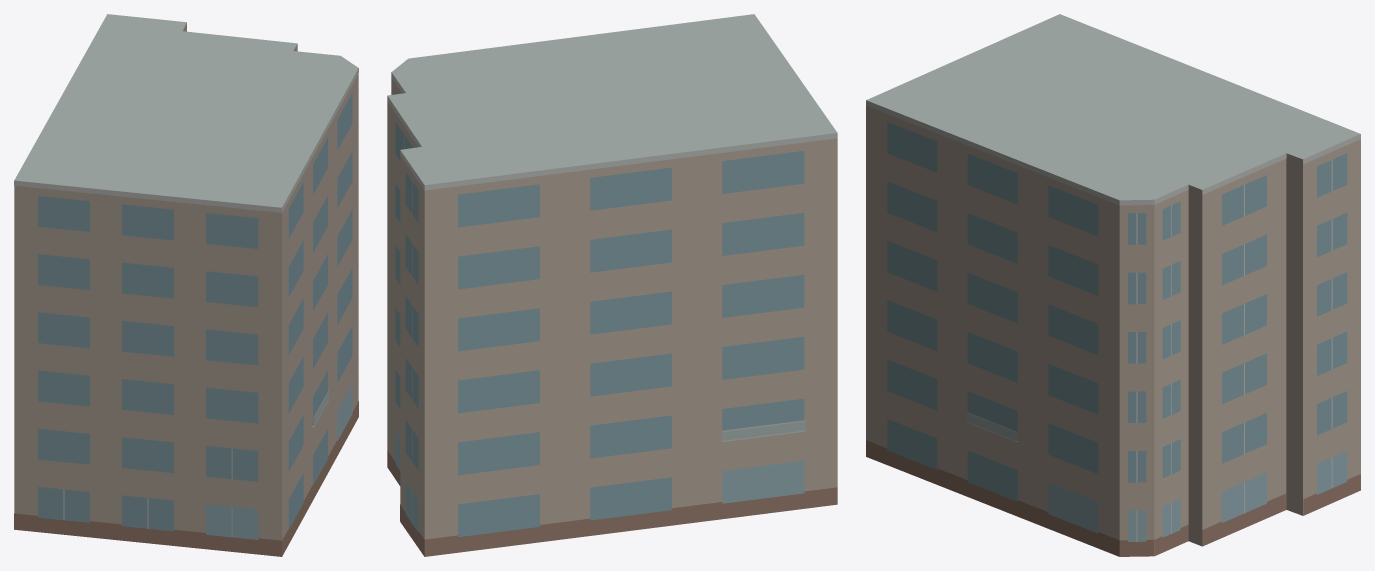
Rendered from survey-upis-32934169.glb.
The picture shows the model from 3 angles, left to right: view 1: azimuth 30°, elevation 25°; view 2: azimuth 150°, elevation 25°; view 3: azimuth 270°, elevation 25°; orthographic projection. The views are drawn at different scales.
Visible parts, largest first — view 1: survey-upis-32934169.tmp; view 2: survey-upis-32934169.tmp; view 3: survey-upis-32934169.tmp.
Boxes of the visible parts, left/top/right/bottom form: survey-upis-32934169.tmp: left=14, top=14, right=358, bottom=556; survey-upis-32934169.tmp: left=387, top=14, right=837, bottom=556; survey-upis-32934169.tmp: left=866, top=14, right=1360, bottom=556.
Size of the model in its own units: 18.89 by 16.85 by 21.2.
